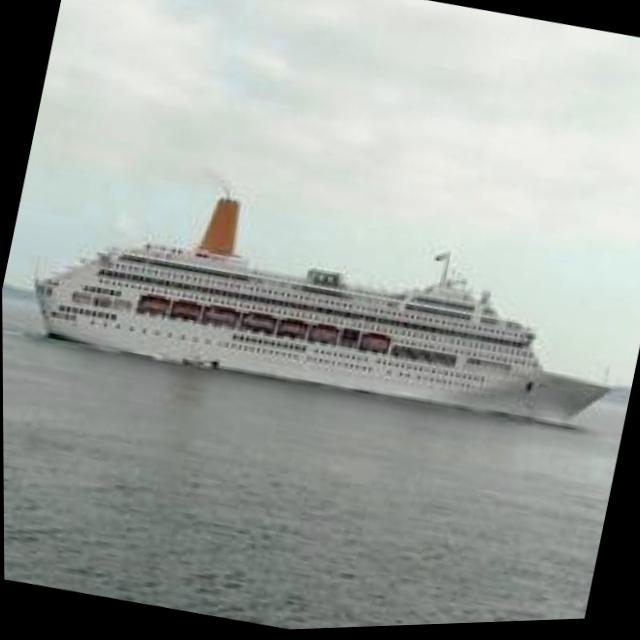ship2: (32, 201, 613, 435)
